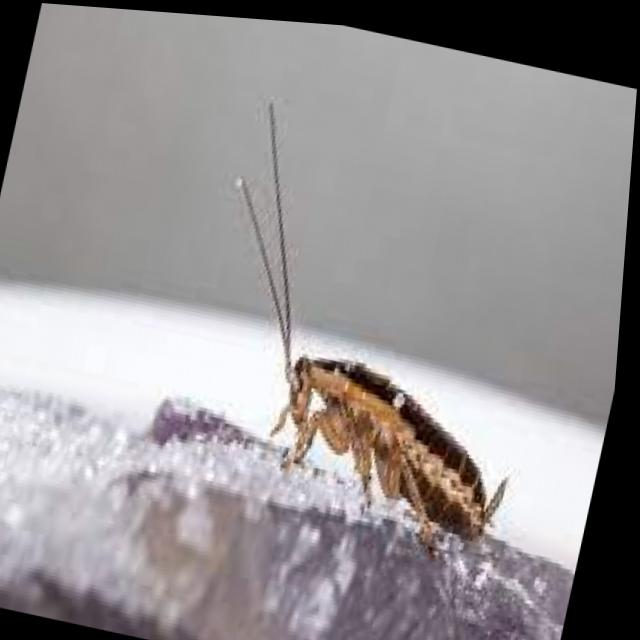Cockroach: (132, 61, 601, 640)
